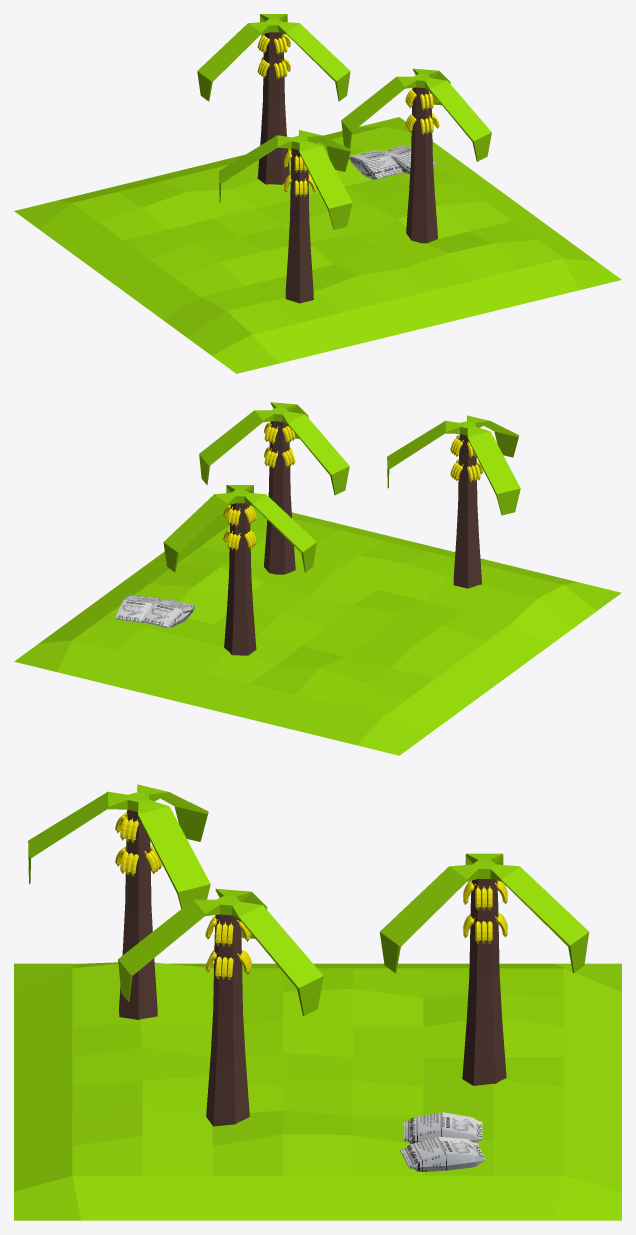
File: BananaFarm.fbx
3 renders of one model, top to bottom at view 1: azimuth 30°, elevation 25°; view 2: azimuth 150°, elevation 25°; view 3: azimuth 270°, elevation 25°, orthographic. The views are drawn at different scales.
Visible parts, largest first — view 1: Plane.009; view 2: Plane.009; view 3: Plane.009.
Boxes of the visible parts, x1,y1,x2,y2 form: Plane.009: (14, 14, 621, 373); Plane.009: (14, 402, 621, 755); Plane.009: (14, 784, 621, 1220).
Bounding box in the file's own units: 2457 × 1065 × 2457.
